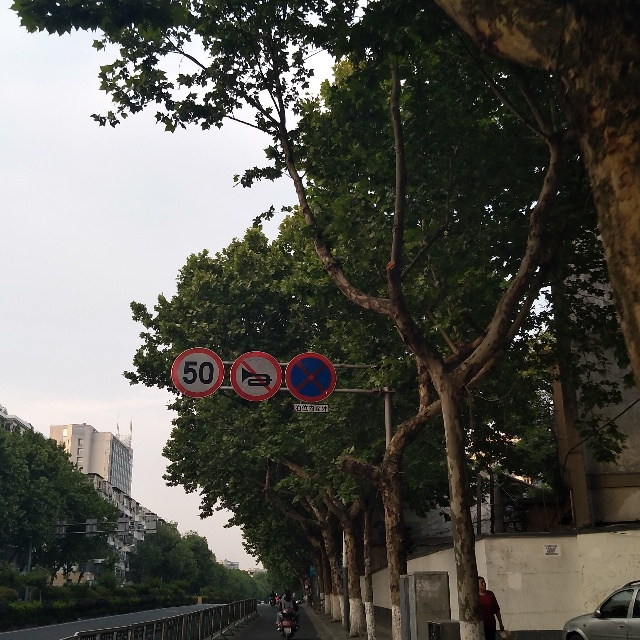nohonk: (233, 347, 279, 402)
stop: (282, 350, 340, 408)
